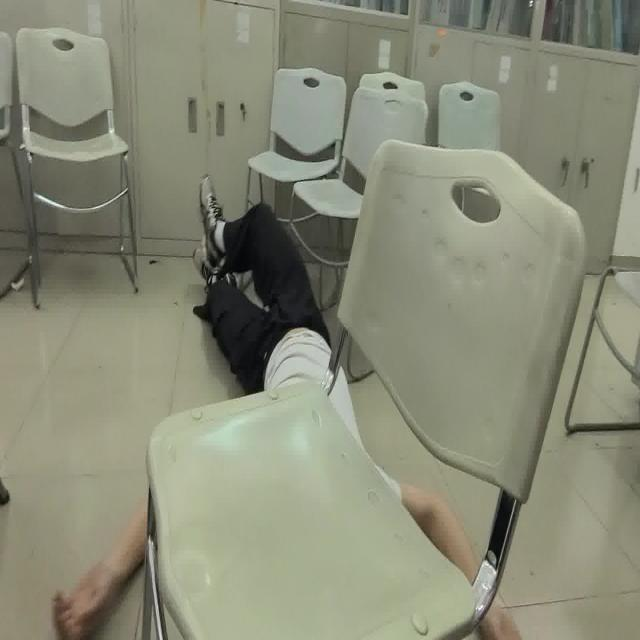Fall-Detected: (54, 170, 512, 640)
